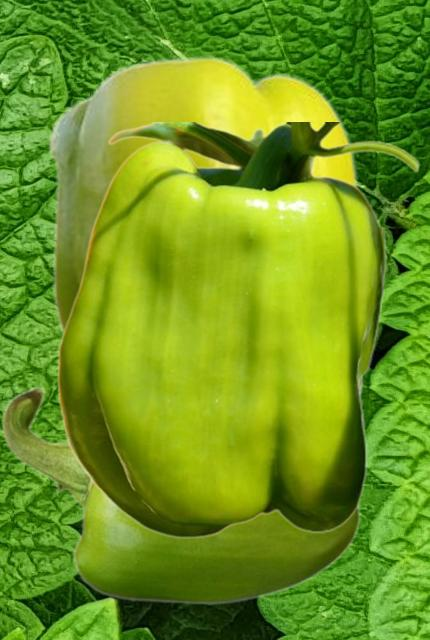bell_pepper: (56, 122, 419, 538), (47, 54, 358, 336), (1, 385, 360, 604)
